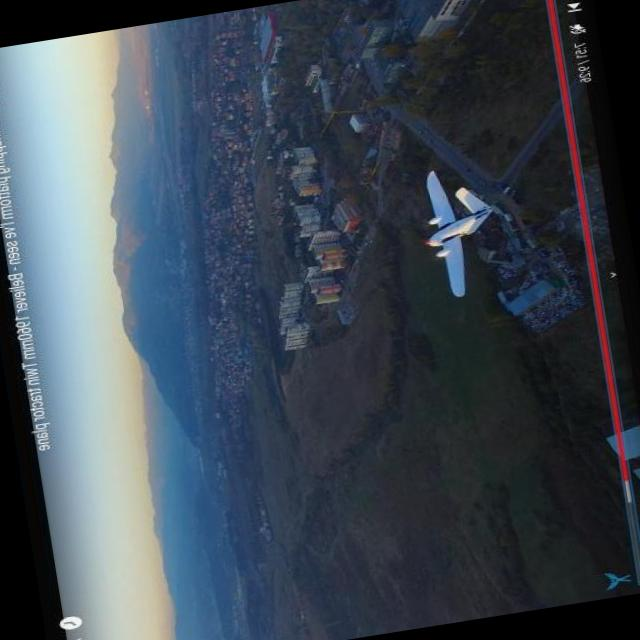UAV: (402, 151, 520, 314)
